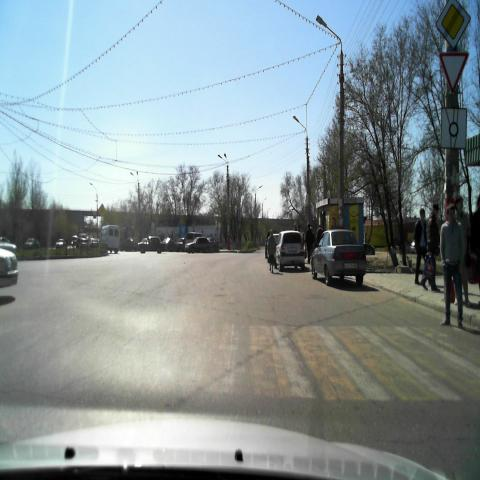2_2: (434, 1, 470, 50)
8_13_1: (440, 106, 468, 151)
